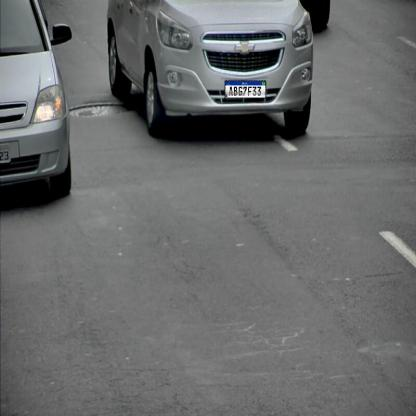PlacaM: (225, 80, 266, 99)
